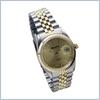watch: (30, 28, 83, 78)
